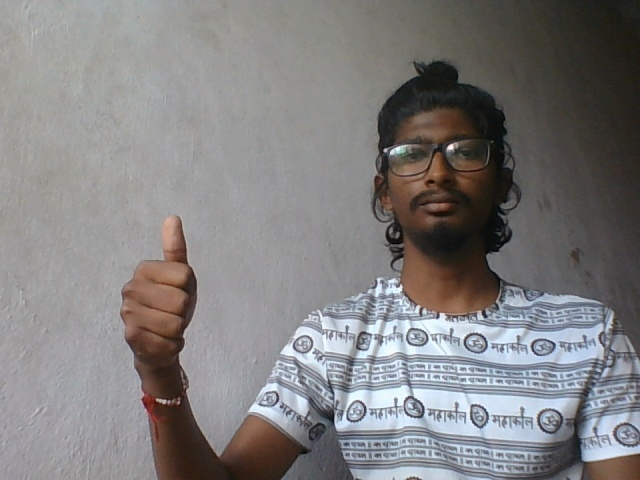Thank you: (110, 209, 207, 377)
